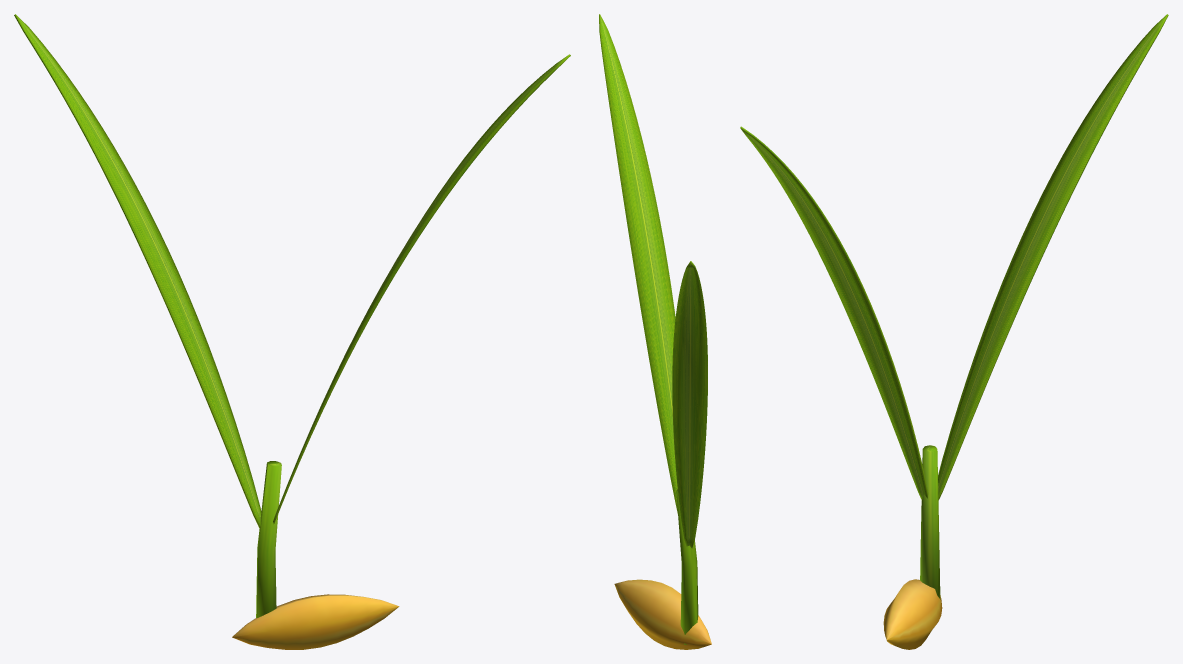
Rendered from NP_Rice_Sprout.fbx.
3 renders of one model, left to right at view 1: azimuth 30°, elevation 25°; view 2: azimuth 150°, elevation 25°; view 3: azimuth 270°, elevation 25°, orthographic. The views are drawn at different scales.
Visible parts, largest first — view 1: NP_Rice_Sprout; view 2: NP_Rice_Sprout; view 3: NP_Rice_Sprout.
Boxes of the visible parts, left/top/right/bottom form: NP_Rice_Sprout: left=14, top=14, right=570, bottom=649; NP_Rice_Sprout: left=599, top=14, right=711, bottom=649; NP_Rice_Sprout: left=740, top=14, right=1168, bottom=649.
Size of the model in its own units: 20.77 by 37.22 by 24.36.
